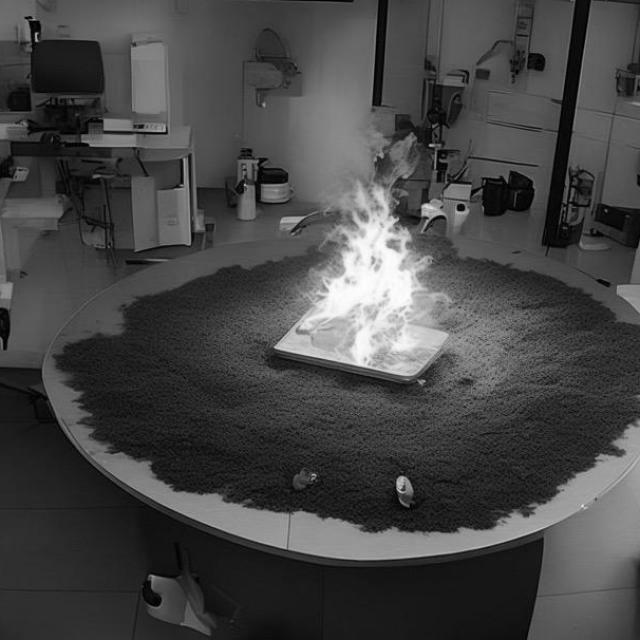smoke: (310, 120, 433, 382)
